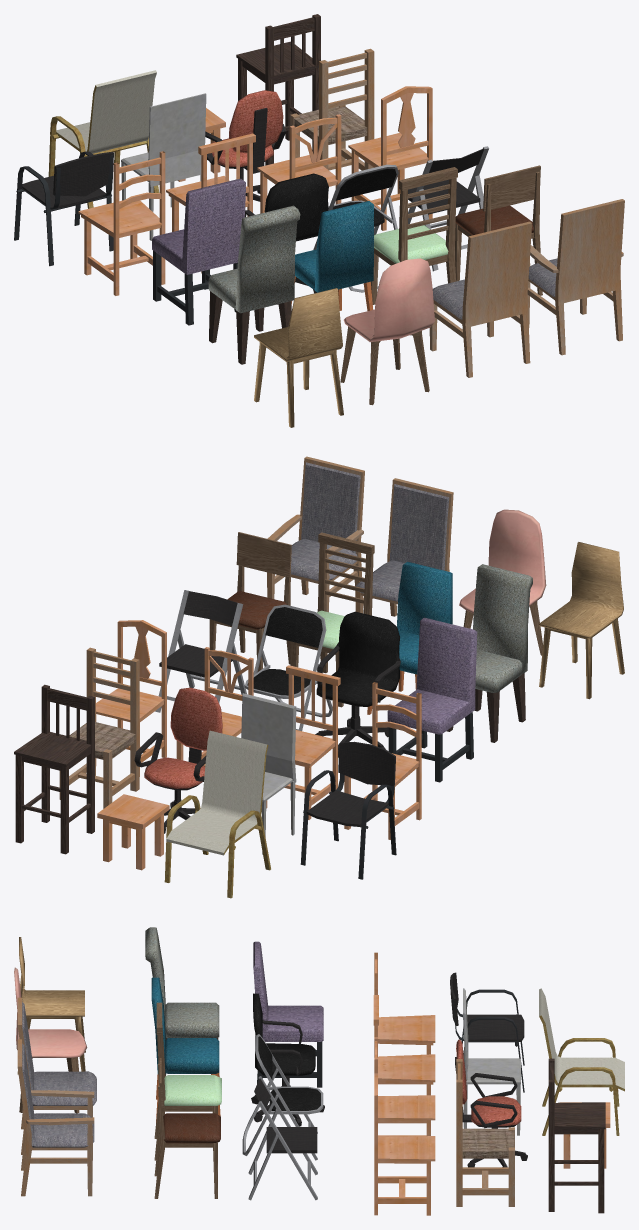
The picture shows the model from 3 angles, top to bottom: view 1: azimuth 30°, elevation 25°; view 2: azimuth 150°, elevation 25°; view 3: azimuth 270°, elevation 25°; orthographic projection. The views are drawn at different scales.
Parts seen in each view (by area): view 1: Chair_01, Chair, Chair_07, Chair_11, Chair_02, Chair_22, Chair_06, Chair_03, Chair_05, Chair_15, Chair_18, Chair_20 (+10 smaller); view 2: Chair_22, Chair_11, Chair_07, Chair, Chair_20, Chair_01, Chair_10, Chair_03, Chair_19, Chair_17, Chair_16, Chair_18 (+11 smaller); view 3: Chair, Chair_16, Chair_20, Chair_22, Chair_11, Chair_12, Chair_04, Chair_01, Chair_08, Chair_07, Chair_05, Chair_06 (+11 smaller).
Boxes of the visible parts, x1,y1,x2,y2 form: Chair_01: (429, 221, 531, 377); Chair: (527, 199, 624, 355); Chair_07: (208, 205, 300, 364); Chair_11: (152, 178, 245, 325); Chair_02: (340, 258, 434, 405); Chair_22: (48, 70, 159, 208); Chair_06: (291, 201, 373, 310); Chair_03: (254, 288, 343, 427); Chair_05: (371, 167, 457, 304); Chair_15: (78, 151, 165, 295); Chair_18: (121, 93, 206, 240); Chair_20: (236, 14, 320, 165); Chair_22: (164, 730, 270, 898); Chair_11: (387, 617, 477, 782); Chair_07: (446, 564, 532, 742); Chair: (267, 456, 364, 612); Chair_20: (14, 684, 94, 854); Chair_01: (355, 478, 453, 616); Chair_10: (315, 611, 400, 757); Chair_03: (539, 542, 624, 699); Chair_19: (300, 741, 396, 879); Chair_17: (134, 687, 222, 833); Chair_16: (59, 647, 139, 808); Chair_18: (241, 693, 296, 854); Chair: (17, 1039, 94, 1196); Chair_16: (456, 1059, 514, 1206); Chair_20: (548, 1058, 605, 1213); Chair_22: (539, 988, 624, 1135); Chair_11: (253, 941, 323, 1087); Chair_12: (374, 1073, 435, 1215); Chair_04: (154, 1058, 220, 1198); Chair_01: (17, 997, 96, 1154); Chair_08: (248, 1076, 317, 1200); Chair_07: (145, 927, 219, 1075); Chair_05: (154, 1002, 221, 1160); Chair_06: (151, 977, 220, 1122).
Size of the model in its own units: 3.08 by 1.46 by 5.21.
22 materials, 22 textured.
